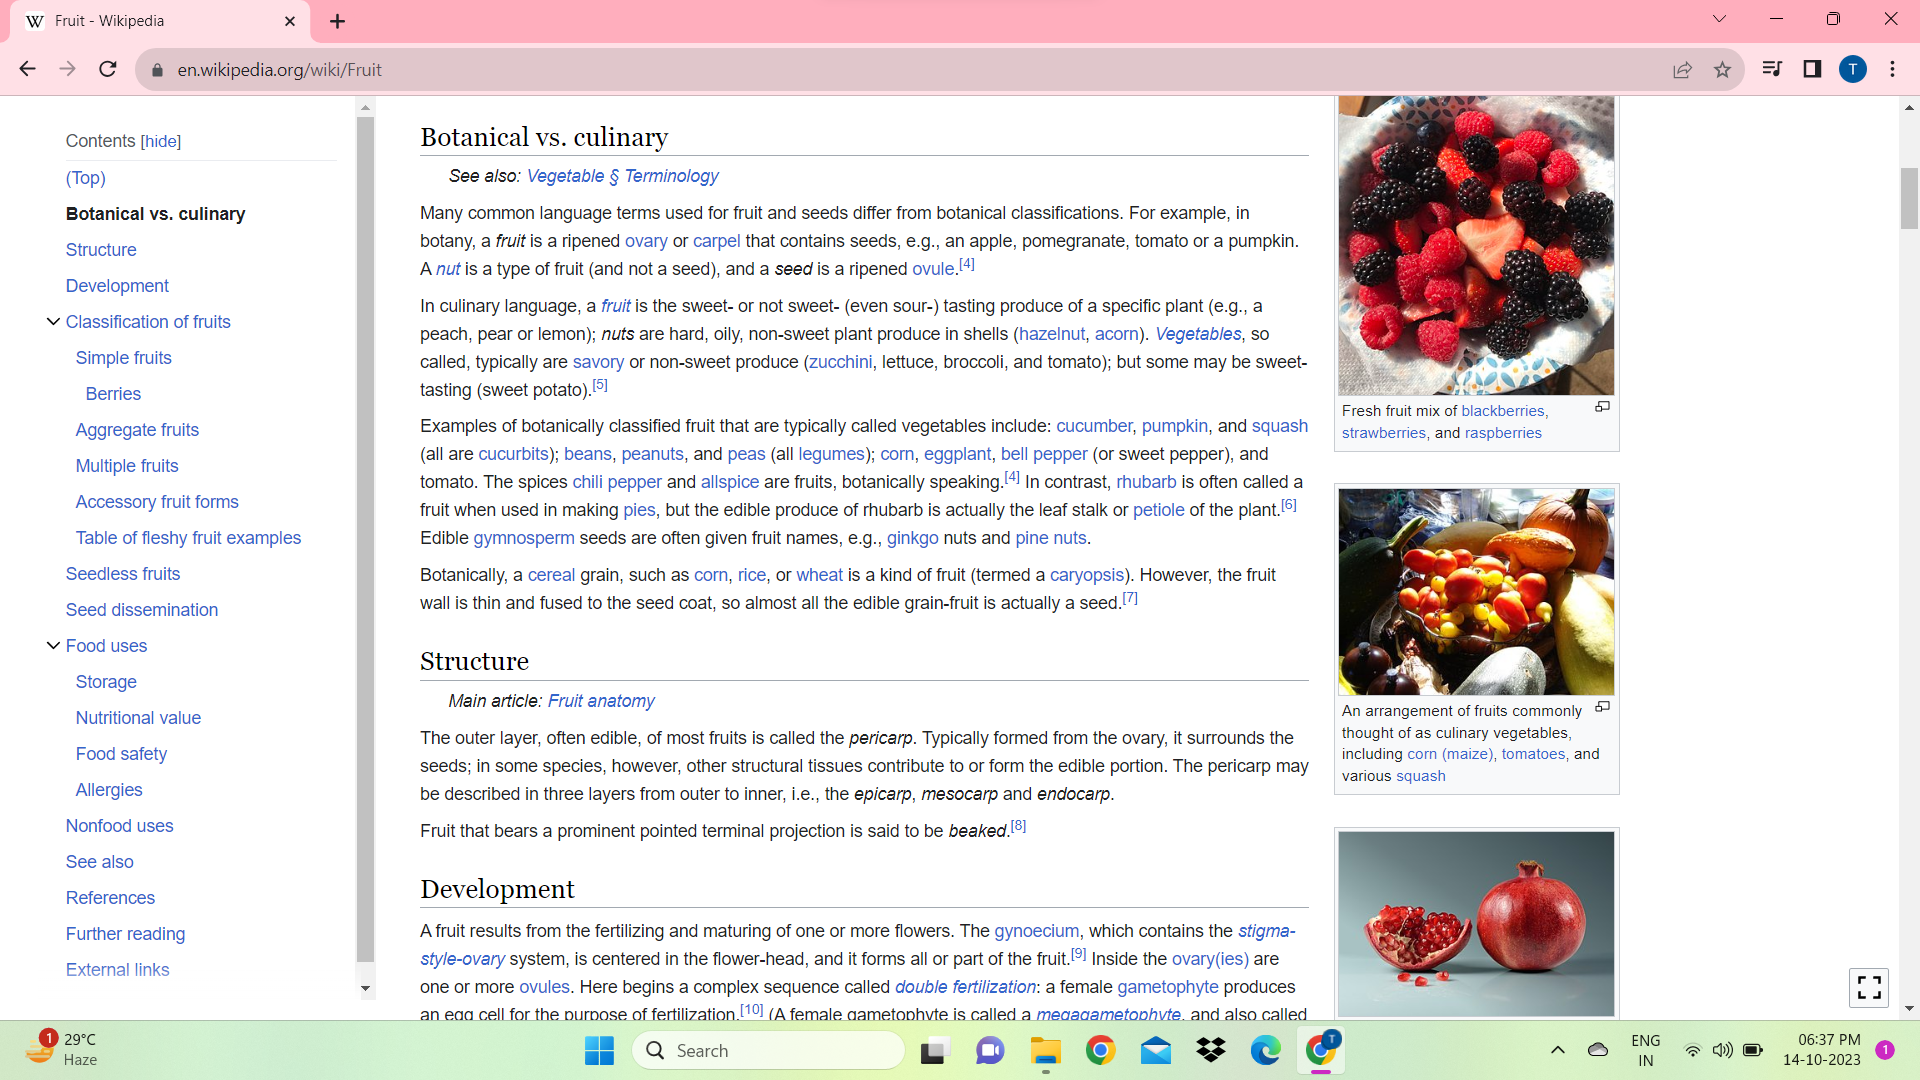Image: (1316, 91, 1644, 401), (1320, 481, 1646, 695), (1323, 808, 1633, 1017)
Paragraph: (404, 414, 1307, 556), (414, 291, 1309, 407), (411, 923, 1309, 1021), (404, 725, 1303, 807), (417, 196, 1300, 276), (414, 560, 1283, 625), (418, 820, 1007, 851), (414, 109, 678, 153), (442, 160, 723, 194), (417, 868, 600, 910), (74, 525, 299, 554), (69, 483, 252, 516), (435, 686, 662, 712), (62, 194, 257, 224), (407, 641, 550, 675), (69, 306, 233, 335), (69, 702, 207, 736), (54, 125, 199, 153), (67, 808, 187, 841), (58, 559, 187, 589), (61, 596, 224, 620), (62, 418, 203, 444), (65, 919, 190, 947), (58, 272, 179, 299), (58, 885, 166, 913), (67, 455, 186, 477), (74, 742, 175, 767), (65, 956, 170, 980), (74, 345, 175, 367), (67, 671, 149, 695), (71, 774, 153, 798), (65, 851, 138, 876), (62, 634, 149, 655), (58, 241, 145, 261), (58, 164, 112, 190), (84, 384, 142, 401)
